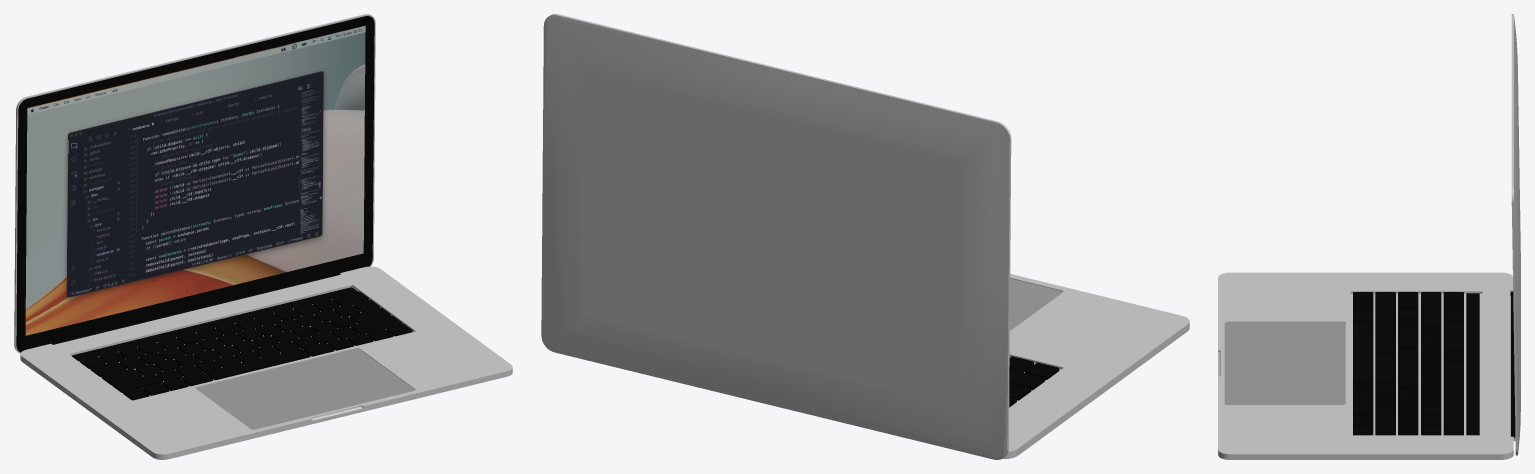
File: mac-draco-transformed.glb
The picture shows the model from 3 angles, left to right: view 1: azimuth 30°, elevation 25°; view 2: azimuth 150°, elevation 25°; view 3: azimuth 270°, elevation 25°; orthographic projection. The views are drawn at different scales.
Parts seen in each view (by area): view 1: screen, base, keyboard, touchbar; view 2: screen, base, keyboard; view 3: base, keyboard, screen, touchbar.
Boxes of the visible parts, x1=… form: screen: x1=14, y1=14, x2=375, y2=353; base: x1=20, y1=266, x2=512, y2=459; keyboard: x1=79, y1=291, x2=412, y2=400; touchbar: x1=72, y1=287, x2=358, y2=360; screen: x1=541, y1=14, x2=1011, y2=459; base: x1=1002, y1=274, x2=1189, y2=458; keyboard: x1=1009, y1=356, x2=1059, y2=407; base: x1=1218, y1=272, x2=1513, y2=459; keyboard: x1=1353, y1=292, x2=1463, y2=435; screen: x1=1510, y1=14, x2=1520, y2=455; touchbar: x1=1466, y1=293, x2=1479, y2=435.
Size of the model in its own units: 8.81 by 6.16 by 6.2.
Materials: 6 (1 with a texture image).
